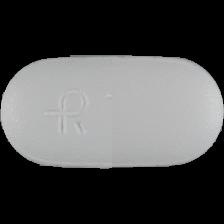0228-2751: (0, 0, 224, 224)
